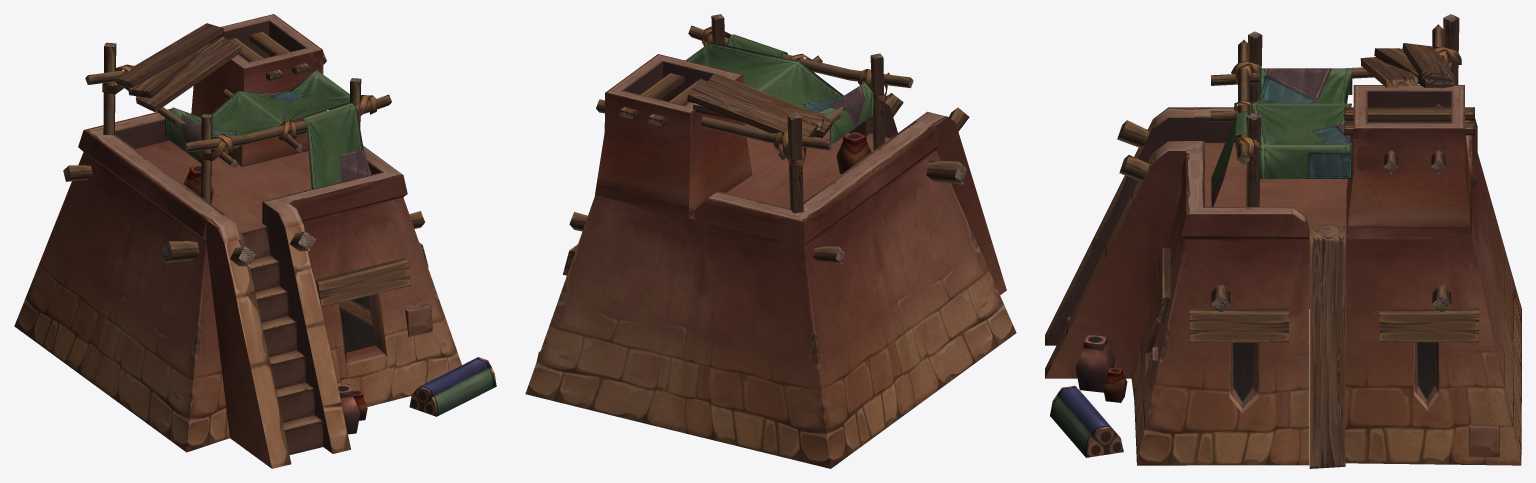
Rendered from SV_BUD_desert_pingfang3_0.FBX.
3 views of the same model, side by side, from view 1: azimuth 30°, elevation 25°; view 2: azimuth 150°, elevation 25°; view 3: azimuth 270°, elevation 25° (orthographic). The views are drawn at different scales.
Parts seen in each view (by area): view 1: SV_BUD_desert_pingfang3_0; view 2: SV_BUD_desert_pingfang3_0; view 3: SV_BUD_desert_pingfang3_0.
Boxes of the visible parts, x1=… form: SV_BUD_desert_pingfang3_0: x1=14, y1=14, x2=496, y2=468; SV_BUD_desert_pingfang3_0: x1=525, y1=14, x2=1016, y2=468; SV_BUD_desert_pingfang3_0: x1=1045, y1=14, x2=1521, y2=468.
Bounding box in the file's own units: 5.94 × 5.69 × 7.48.
